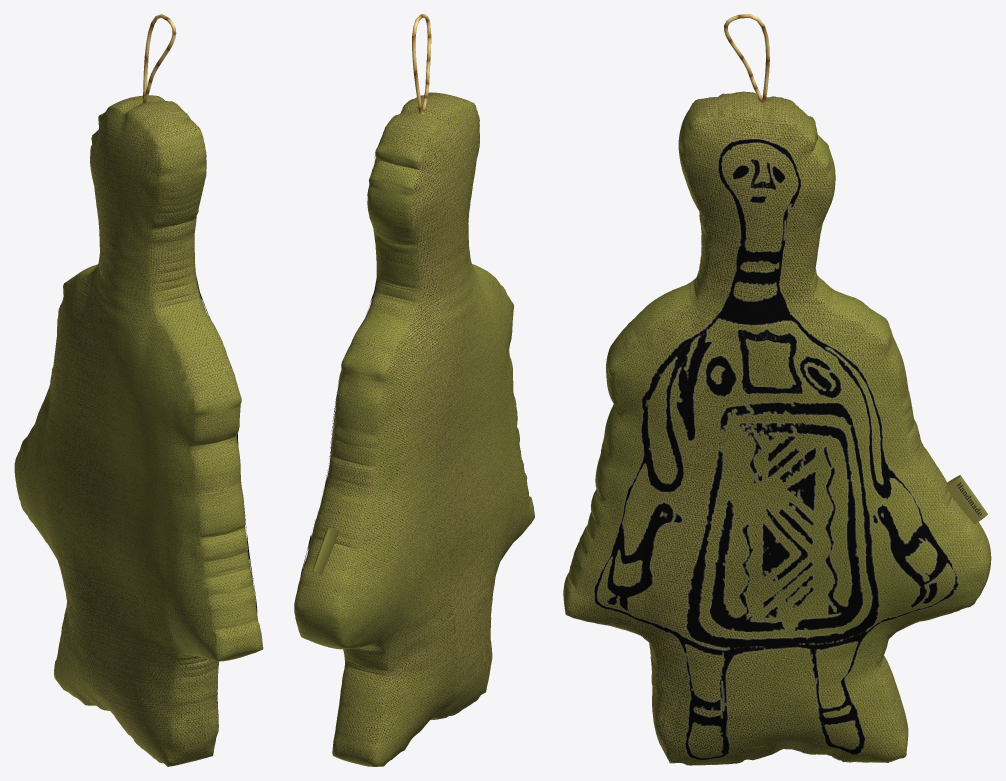
File: 3_green.glb
3 renders of one model, left to right at view 1: azimuth 30°, elevation 25°; view 2: azimuth 150°, elevation 25°; view 3: azimuth 270°, elevation 25°, orthographic. The views are drawn at different scales.
Visible parts, largest first — view 1: Plane.001, BezierCircle.002; view 2: Plane.001, BezierCircle.002, BezierCurve.001; view 3: Plane.001, qweqweqwe, BezierCircle.002, BezierCurve.001.
Part boxes in pixels (x1,y1,x2,y2): Plane.001: [14, 95, 263, 766]; BezierCircle.002: [142, 14, 176, 103]; Plane.001: [294, 92, 534, 766]; BezierCircle.002: [412, 14, 431, 113]; BezierCurve.001: [313, 527, 338, 575]; Plane.001: [563, 91, 991, 765]; qweqweqwe: [593, 138, 959, 760]; BezierCircle.002: [724, 14, 769, 103]; BezierCurve.001: [946, 475, 987, 524].
Size of the model in its own units: 0.7913 by 5.7 by 2.95.
Materials: 4 (3 with a texture image).
